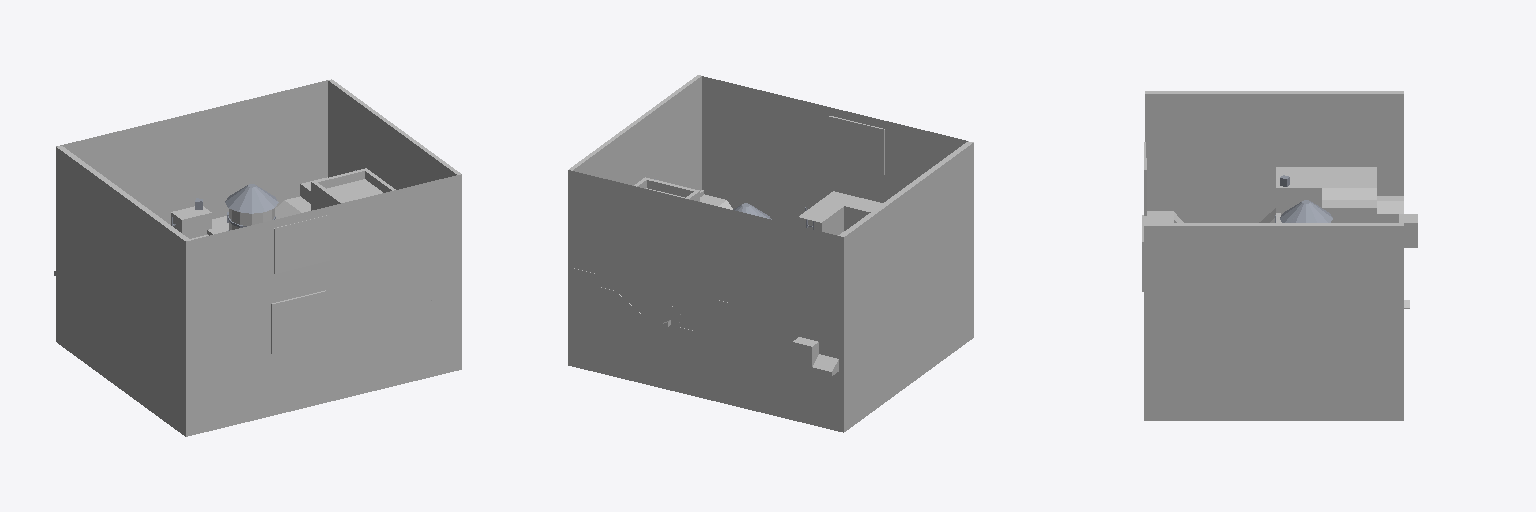
File: map.obj
The picture shows the model from 3 angles: view 1: azimuth 30°, elevation 25°; view 2: azimuth 150°, elevation 25°; view 3: azimuth 270°, elevation 25°; orthographic projection.
Visible parts, largest first — view 1: Куб.007, Building_6, Building3, Boards1_Cube.022, Building1, Building4, siloRoof, Building2, siloMid; view 2: Куб.007, Building3, Boards1_Cube.022, Building_6, Building5, Building4; view 3: Куб.007, Building5, siloRoof.
Part boxes in pixels (x1,y1,x2,y2): Куб.007: (56,79,461,436); Building_6: (271,290,326,353); Building3: (275,168,395,219); Boards1_Cube.022: (274,215,329,273); Building1: (191,341,242,378); Building4: (171,206,228,239); siloRoof: (225,184,278,213); Building2: (422,289,457,321); siloMid: (229,208,274,230); Куб.007: (568,75,973,432); Building3: (572,177,699,327); Boards1_Cube.022: (828,116,884,174); Building_6: (798,191,882,235); Building5: (792,335,838,375); Building4: (670,296,728,338); Куб.007: (1144,91,1403,420); Building5: (1276,167,1417,247); siloRoof: (1280,200,1332,222).
Size of the model in its own units: 69.73 by 47.24 by 60.25.